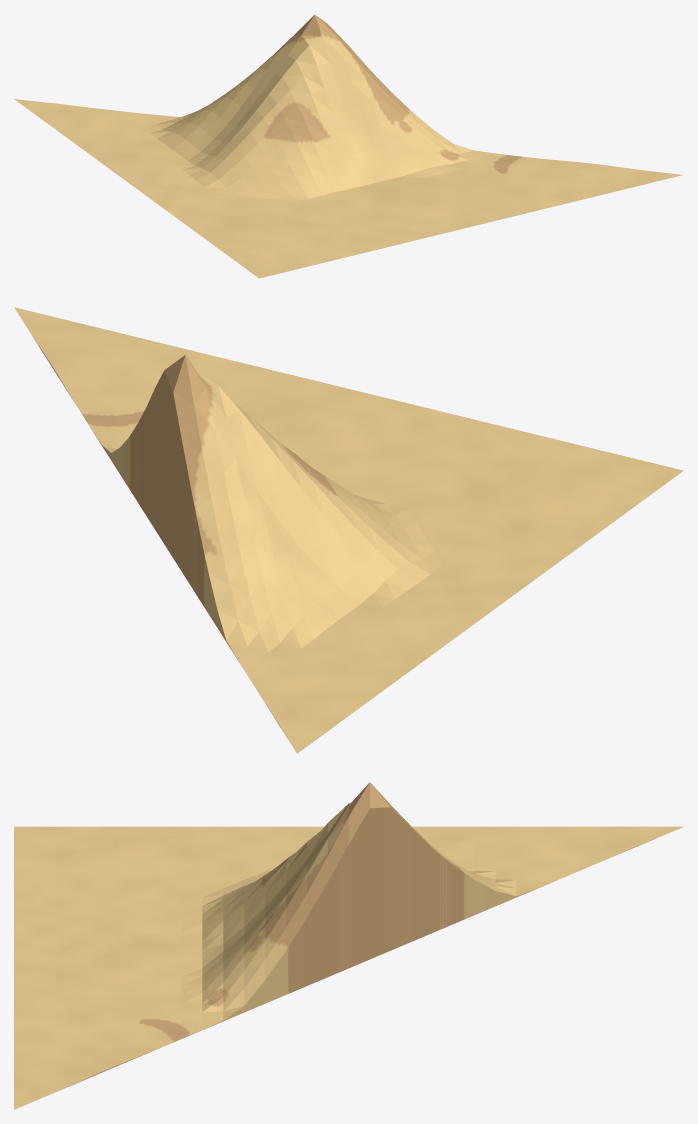
Rendered from Desert_Mountains_01_NW.obj.
3 renders of one model, top to bottom at view 1: azimuth 30°, elevation 25°; view 2: azimuth 150°, elevation 25°; view 3: azimuth 270°, elevation 25°, orthographic. The views are drawn at different scales.
Bounding box in the file's own units: 10 × 2.78 × 10.
Materials: 1 (1 with a texture image).
